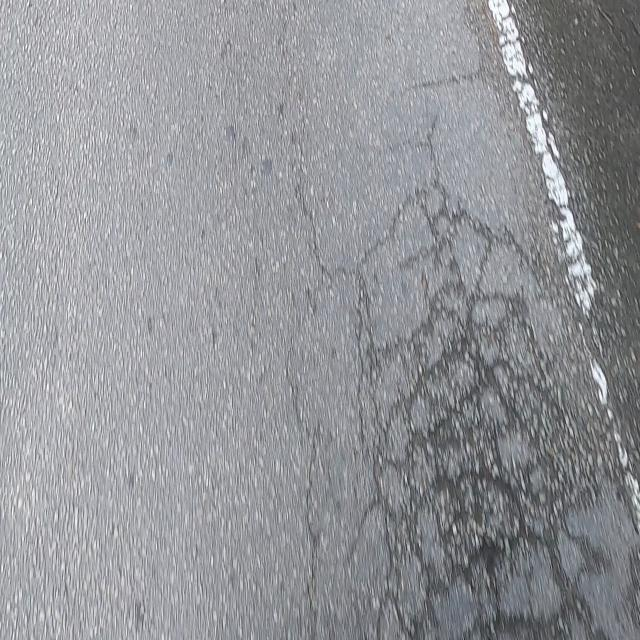Retak-Buaya: (353, 174, 616, 638)
